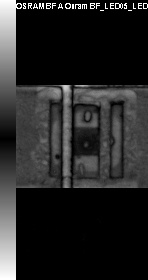led: (50, 104, 122, 177)
